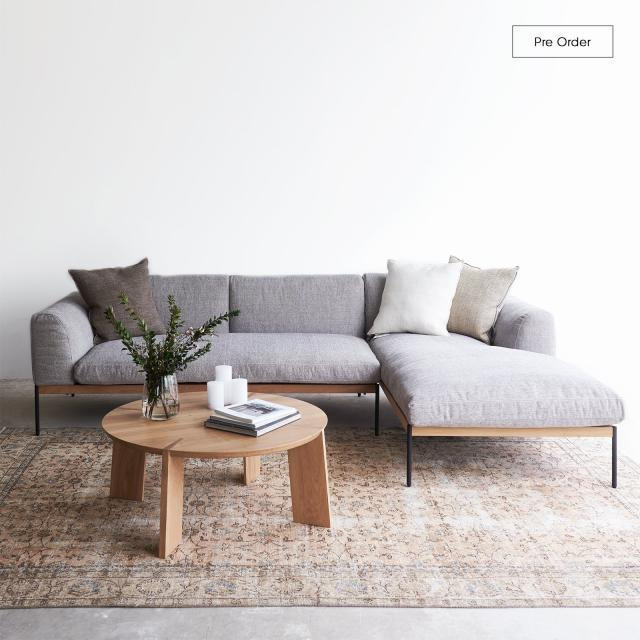sofa: (16, 246, 630, 494)
